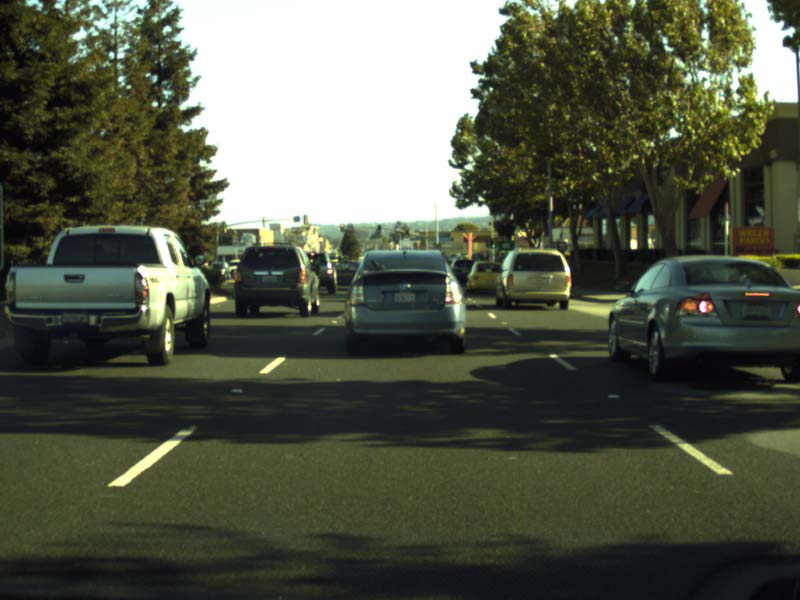Green: (405, 230, 409, 237), (377, 224, 380, 232)
Red: (339, 222, 344, 230)
